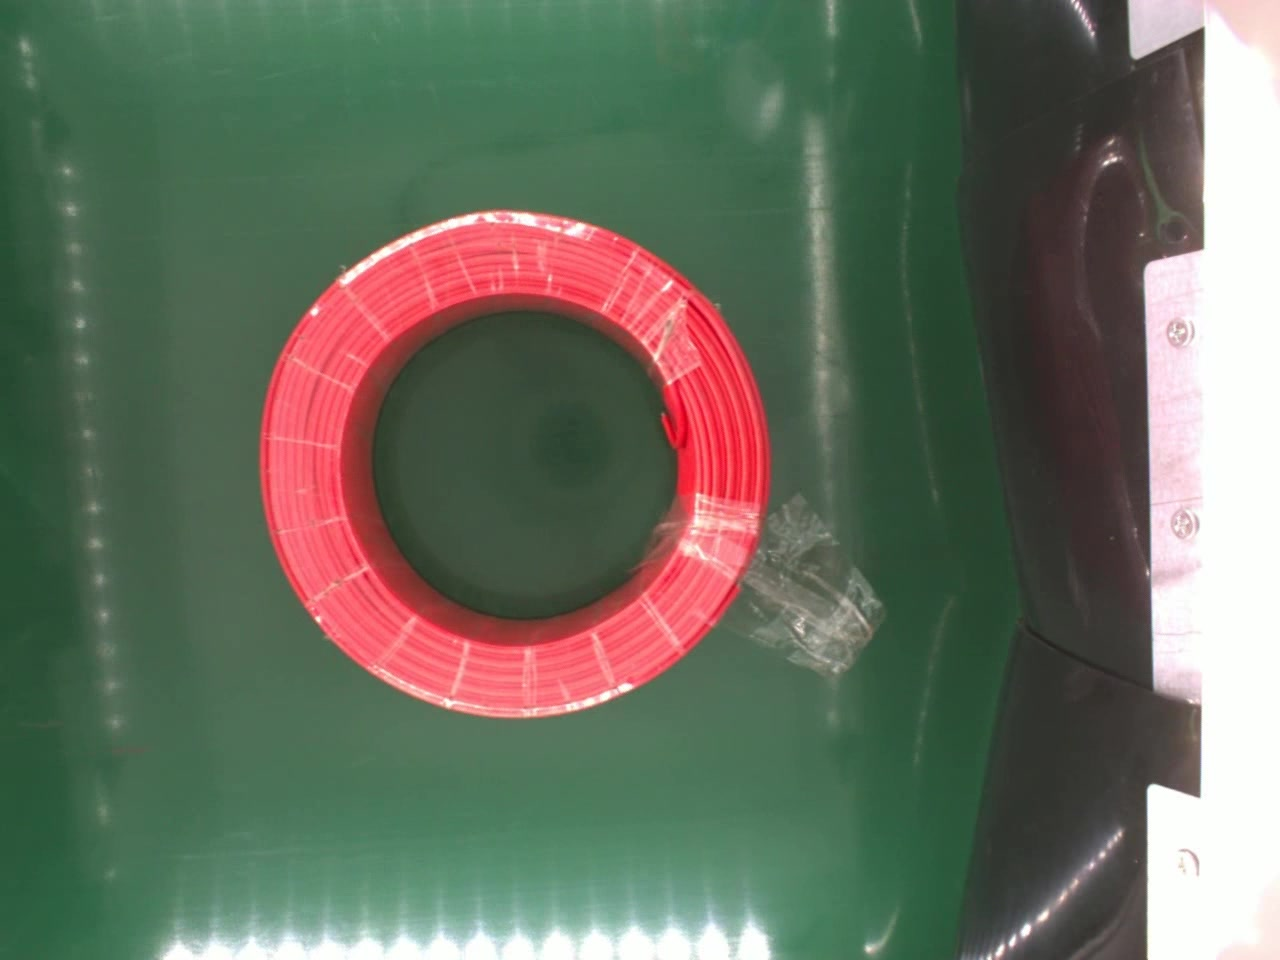red: (252, 208, 769, 722)
